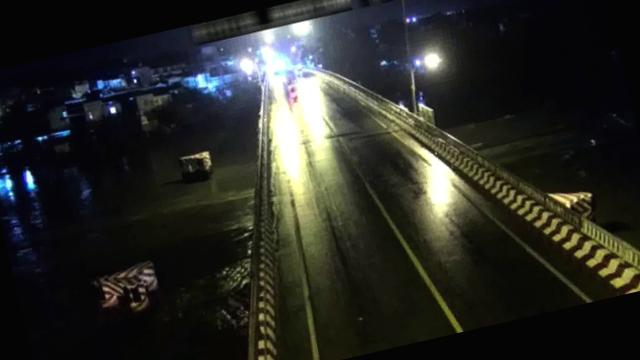Bike: (288, 80, 302, 101)
